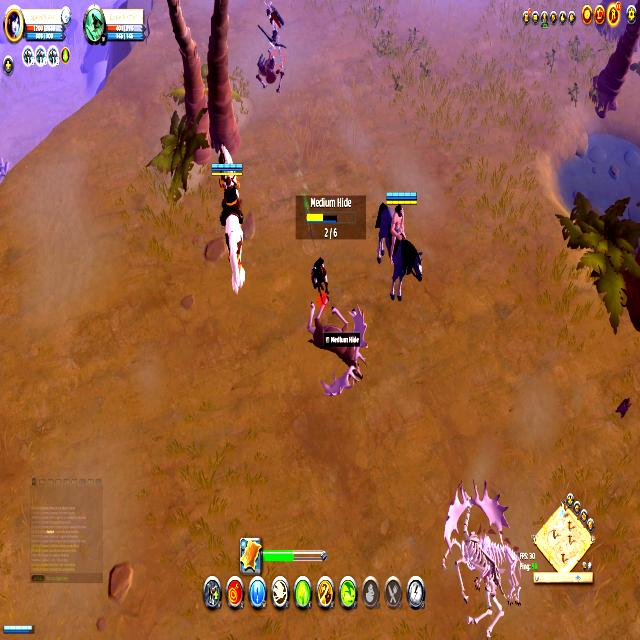mob: (304, 294, 368, 396)
ore: (259, 0, 286, 73)
red: (210, 138, 246, 294), (376, 188, 424, 300), (308, 254, 331, 302), (2, 620, 35, 637)
